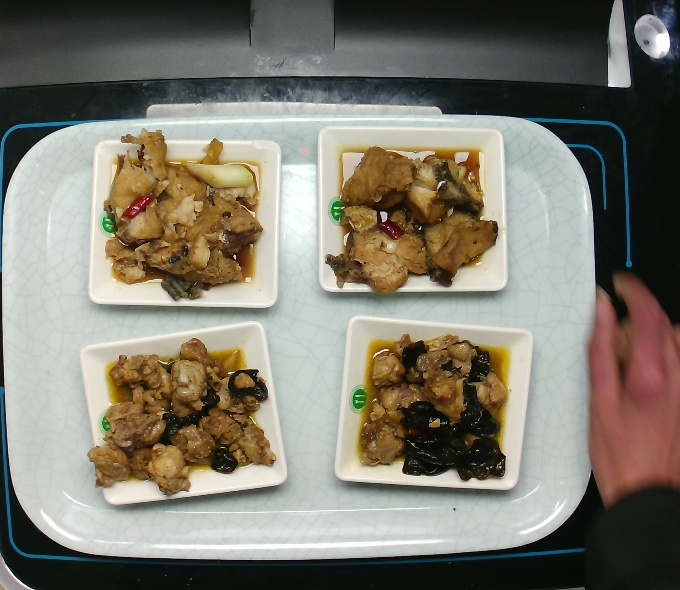wcq-MuErRouKuai: (83, 337, 279, 499), (356, 326, 520, 485)
wcq-YuKuai: (103, 127, 266, 303), (323, 139, 502, 295)
